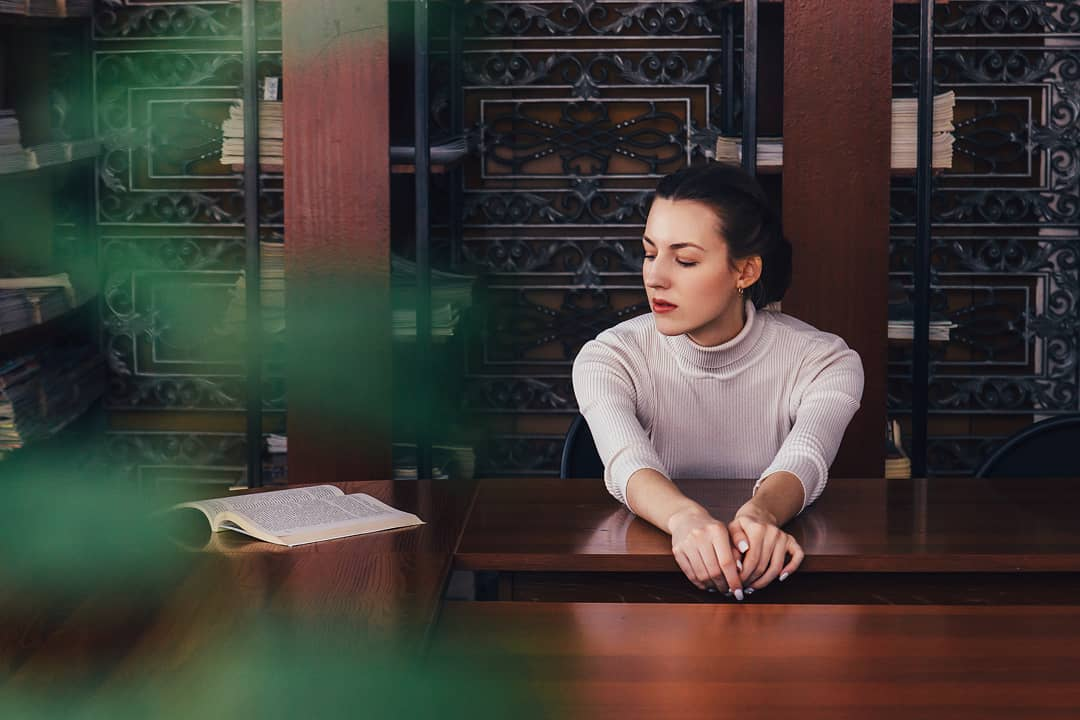hand: (672, 509, 741, 589)
